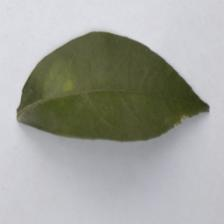healthy: (12, 28, 216, 146)
